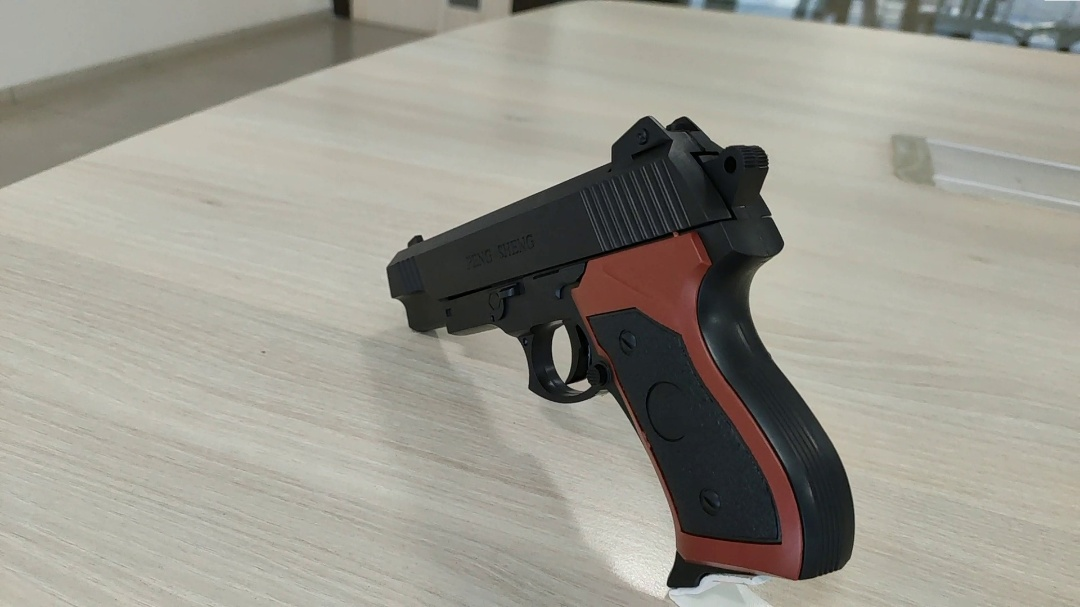gun: (553, 274, 586, 355)
